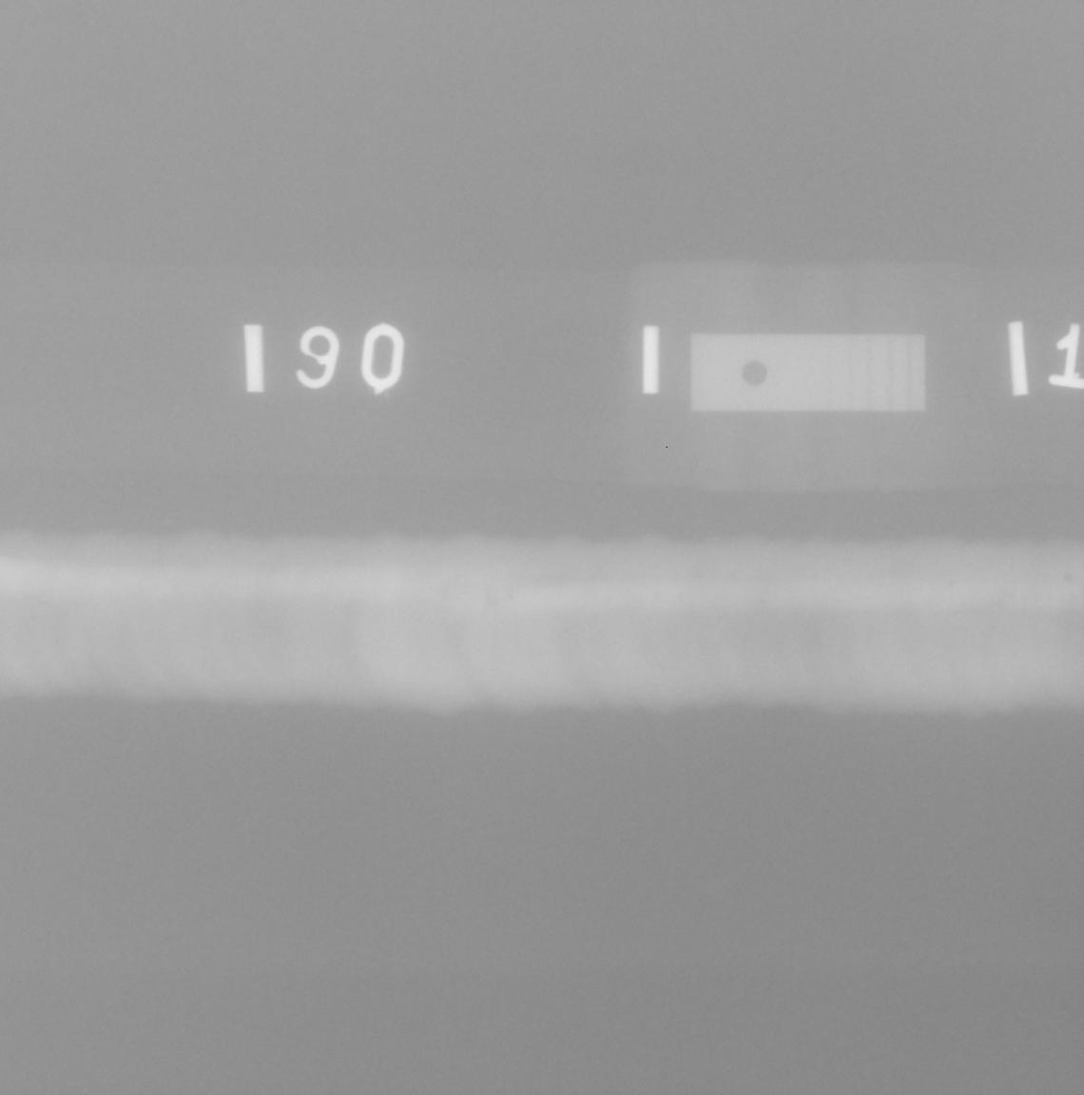Inclusion: (927, 599, 934, 606), (691, 575, 703, 579), (889, 569, 896, 573), (954, 610, 959, 615), (996, 601, 1001, 605), (931, 587, 936, 590)
Pore/Porosity: (1063, 574, 1072, 582), (605, 597, 612, 604), (493, 600, 498, 606), (949, 581, 954, 587), (30, 615, 35, 620), (1009, 593, 1014, 598), (54, 640, 59, 644), (509, 596, 513, 599), (761, 600, 764, 603)
Reference Standard 1: (690, 334, 924, 411)
